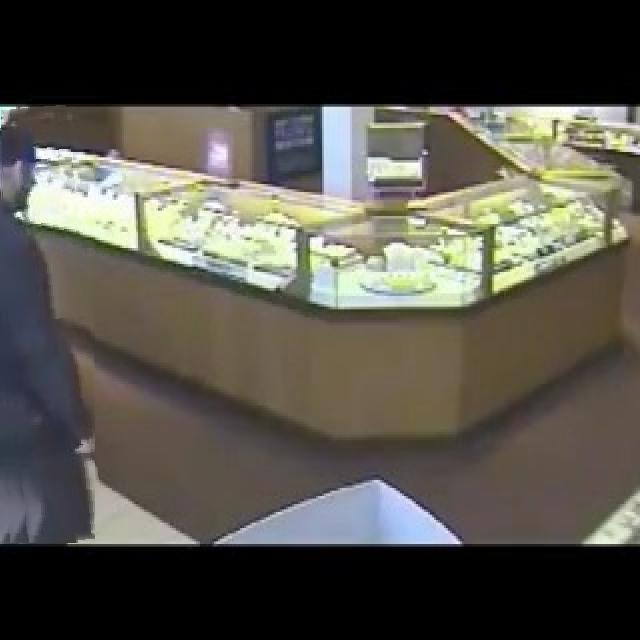normal: (0, 106, 95, 543)
